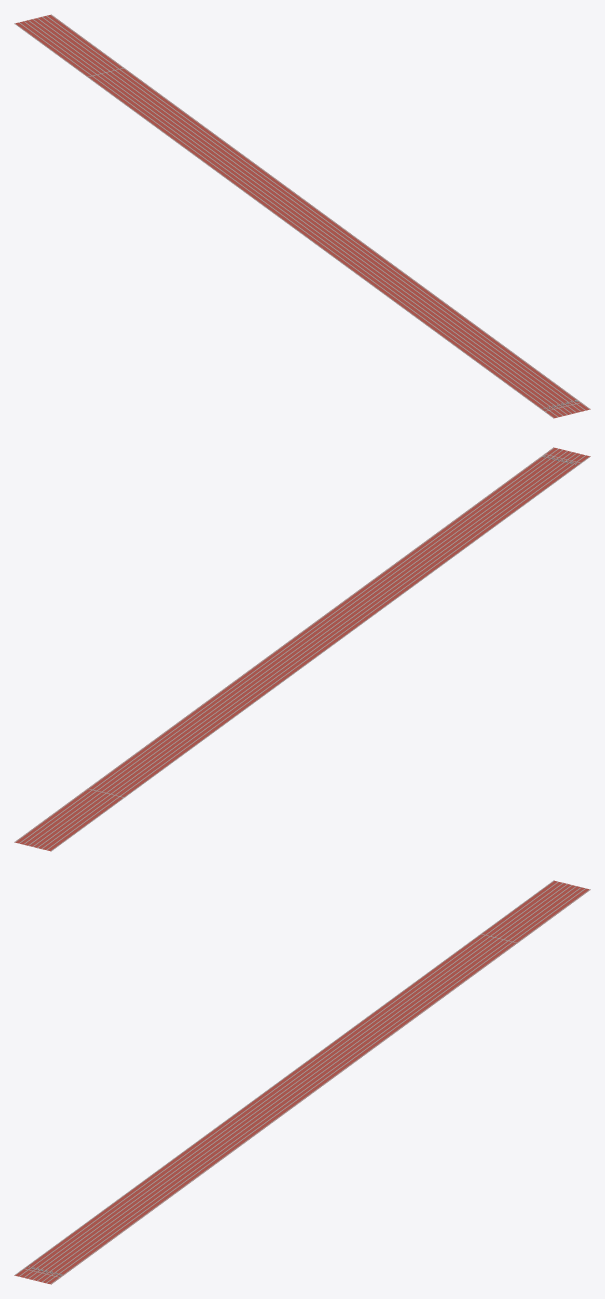
File: mondo-track.fbx
3 views of the same model, one above another, from view 1: azimuth 30°, elevation 25°; view 2: azimuth 150°, elevation 25°; view 3: azimuth 330°, elevation 25° (orthographic).
Visible parts, largest first — view 1: Plane, Merged_Meshes; view 2: Plane, Merged_Meshes; view 3: Plane, Merged_Meshes.
Part boxes in pixels (x1,y1,x2,y2): Plane: [15, 15, 590, 418]; Merged_Meshes: [14, 14, 589, 418]; Plane: [15, 447, 590, 851]; Merged_Meshes: [14, 447, 590, 851]; Plane: [14, 880, 589, 1284]; Merged_Meshes: [14, 880, 590, 1284].
Size of the model in its own units: 4 by 0.0496 by 100.
